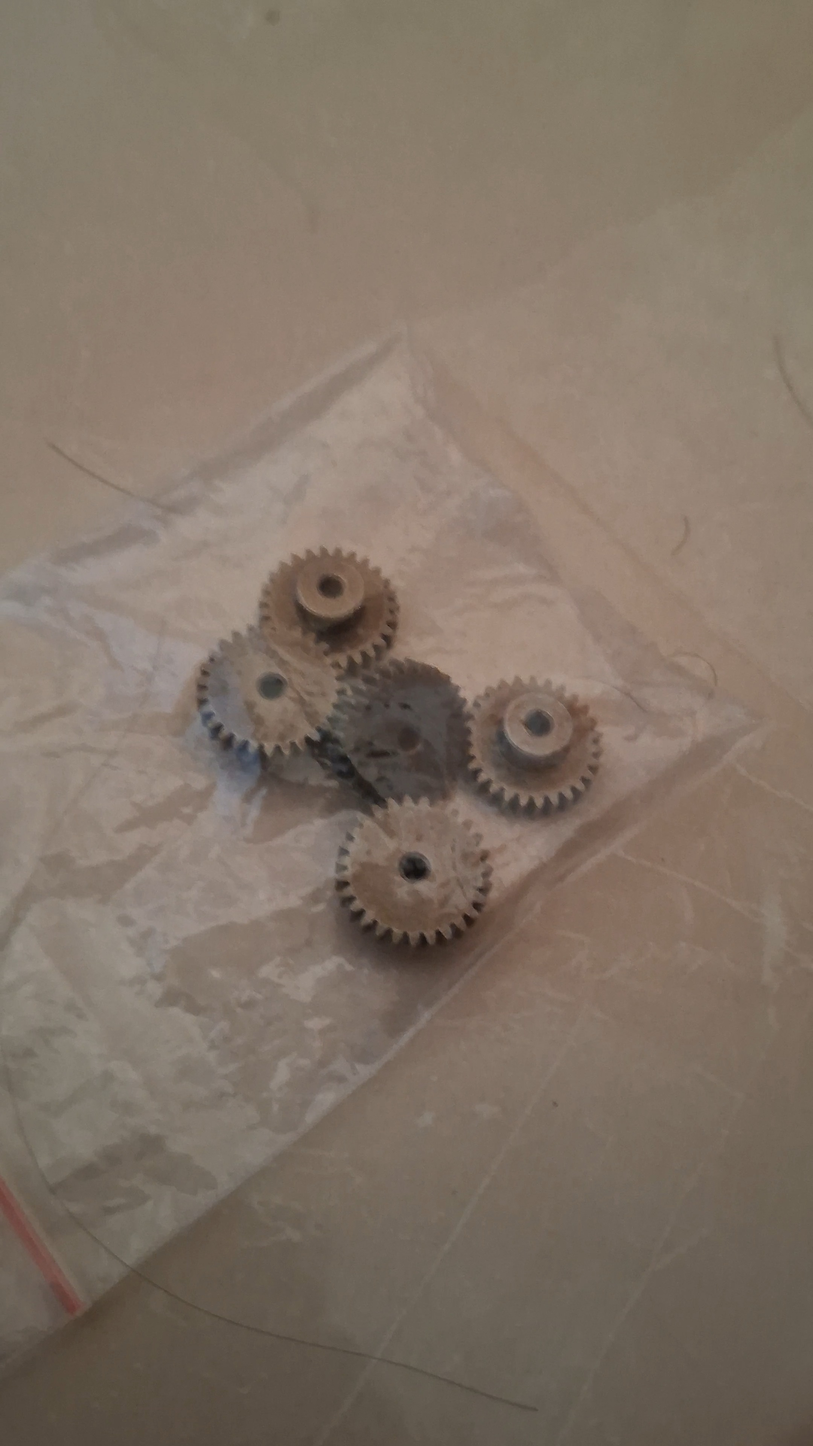spur gear: (336, 799, 491, 944), (330, 657, 466, 800), (197, 628, 338, 760), (469, 679, 601, 814), (260, 548, 397, 670)
